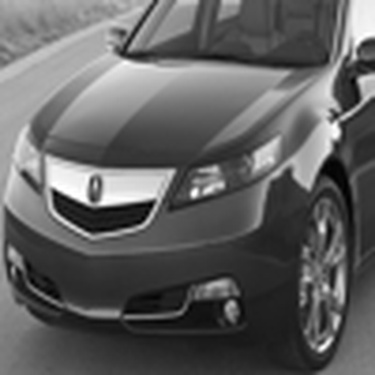car: (4, 8, 370, 371)
